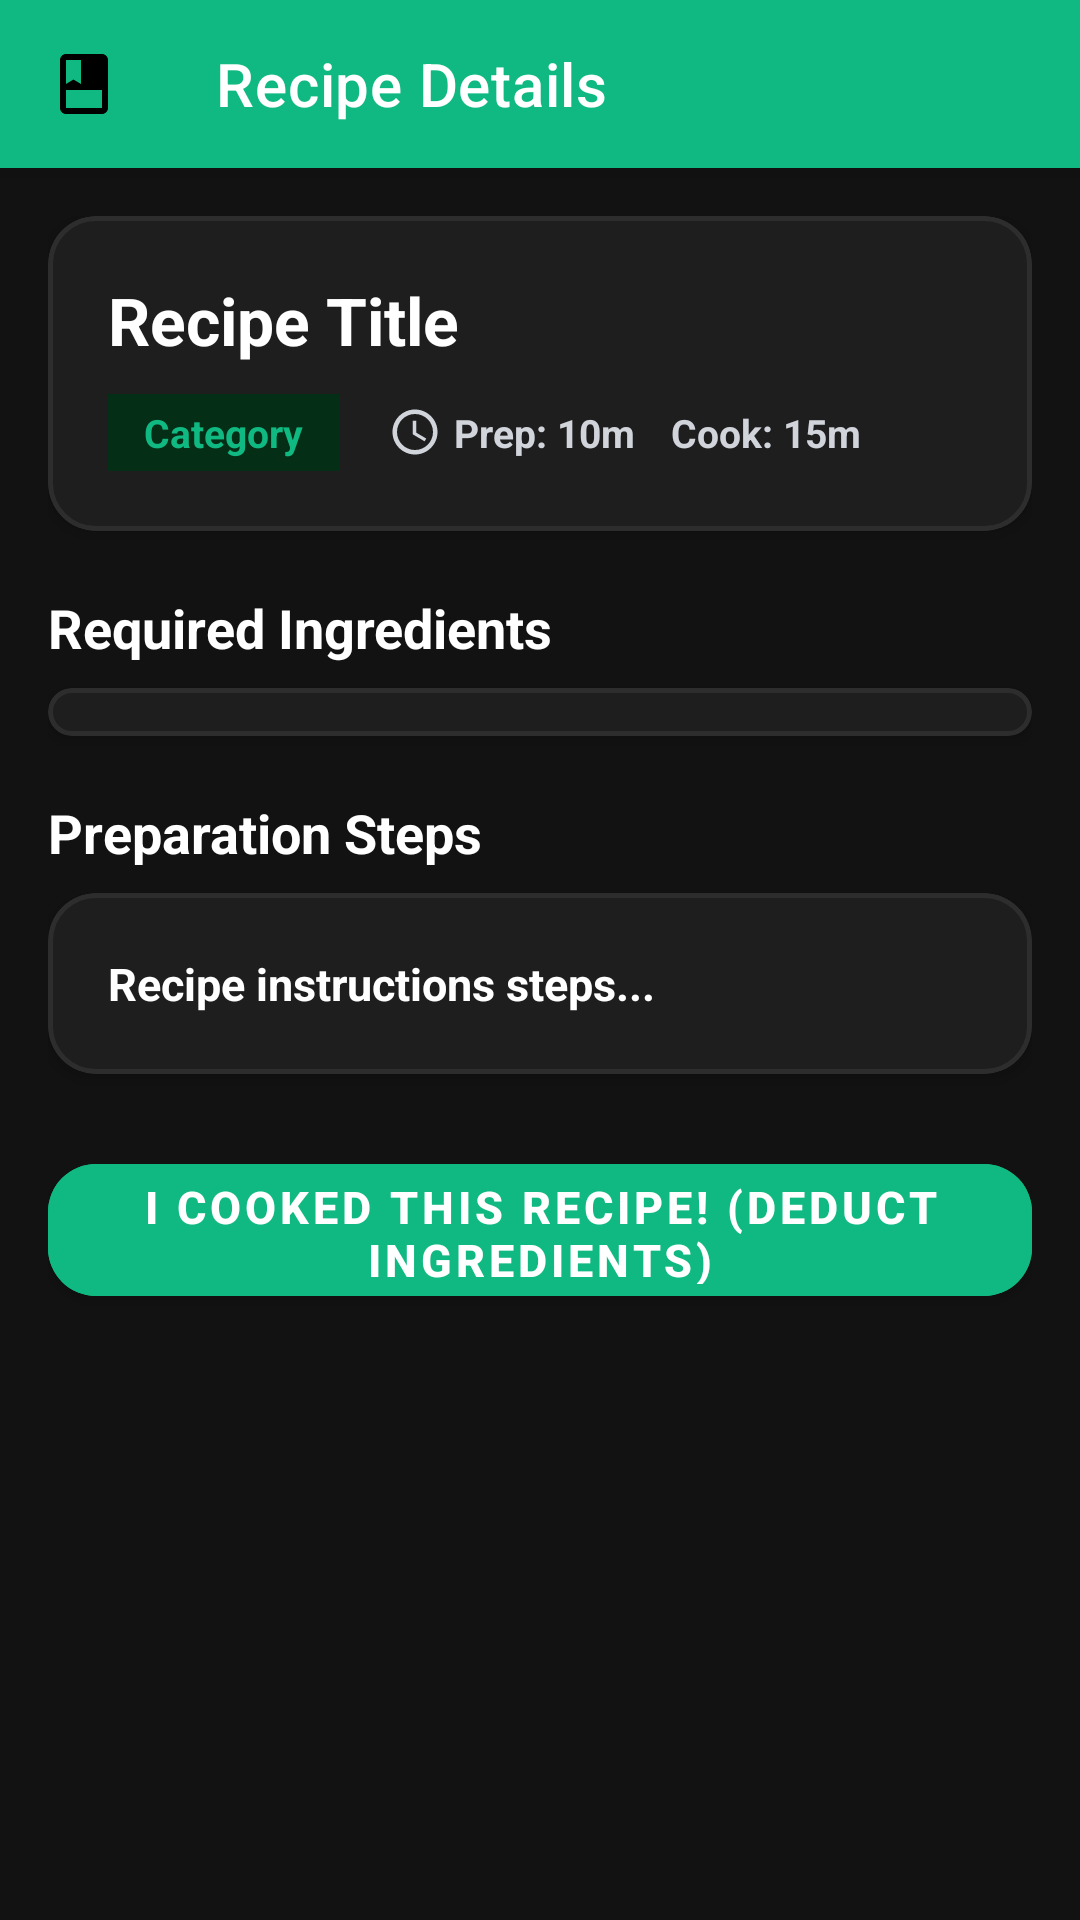

Where icons sit on this 1080px x 1920px app screen, as (x1, y1, x2, y2):
Time: (392, 409, 438, 455)
